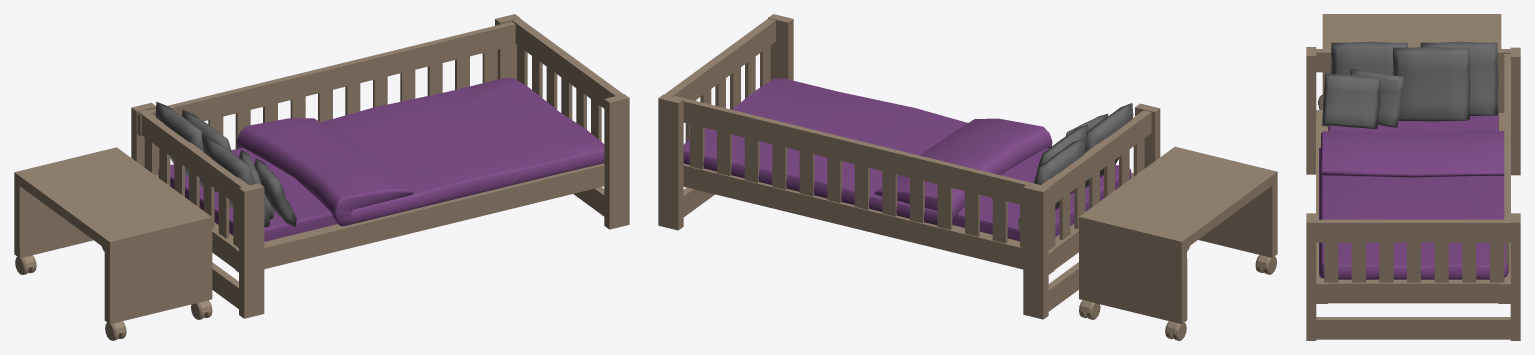
File: SM_Room_Bed.fbx
3 renders of one model, left to right at view 1: azimuth 30°, elevation 25°; view 2: azimuth 150°, elevation 25°; view 3: azimuth 270°, elevation 25°, orthographic. The views are drawn at different scales.
Parts seen in each view (by area): view 1: Bed_wood, Mattress, Bureau, cushion; view 2: Bed_wood, Bureau, Mattress, cushion; view 3: Bed_wood, Mattress, cushion, Bureau.
Boxes of the visible parts, box(x1,y1,x2,y2) form: Bed_wood: box(131, 14, 629, 318); Mattress: box(158, 78, 604, 241); Bureau: box(14, 147, 212, 340); cushion: box(155, 101, 296, 227); Bed_wood: box(658, 14, 1160, 319); Bureau: box(1079, 146, 1277, 340); Mattress: box(683, 78, 1131, 241); cushion: box(1018, 103, 1133, 228); Bed_wood: box(1306, 47, 1520, 340); Mattress: box(1319, 107, 1508, 279); cushion: box(1321, 41, 1498, 128); Bureau: box(1318, 14, 1501, 109).
Size of the model in its own units: 4.39 by 1.15 by 1.7.
